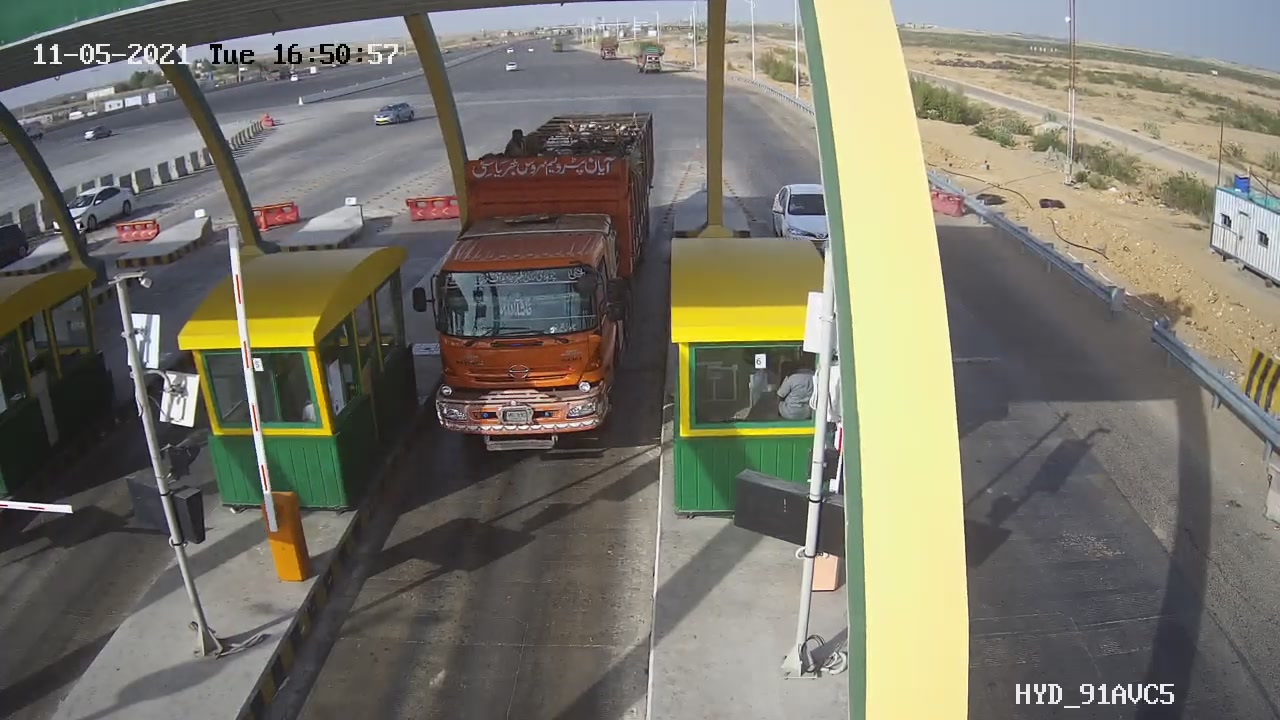F6: (400, 99, 674, 473)
